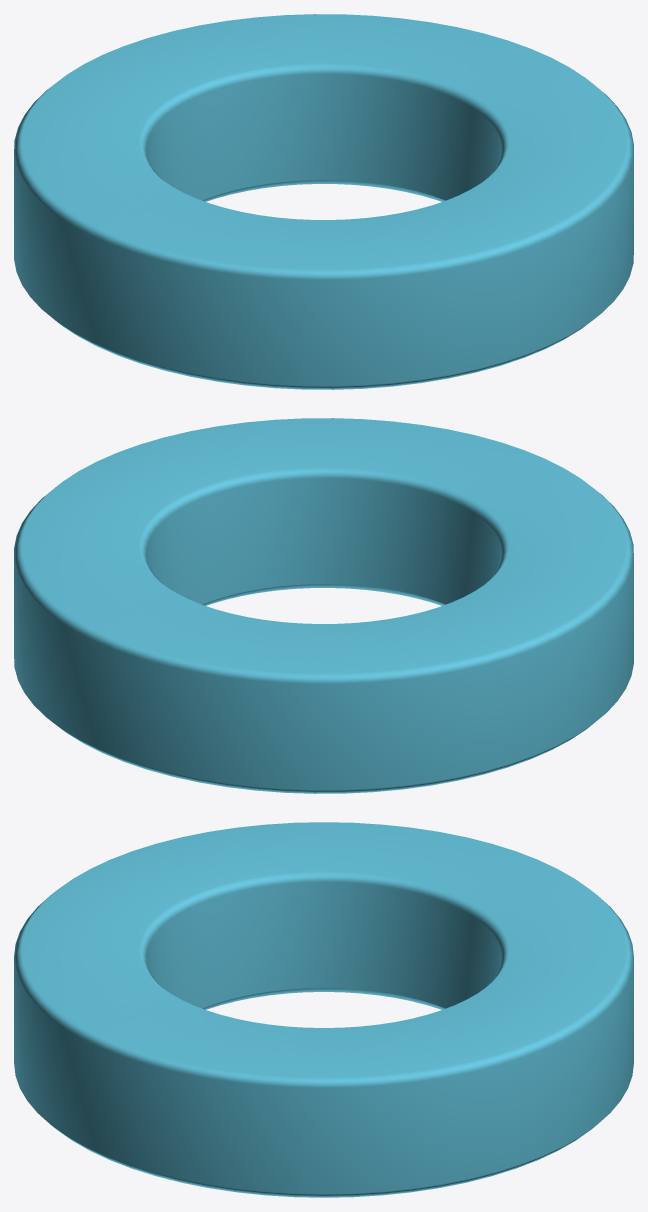
3 renders of one model, top to bottom at view 1: azimuth 30°, elevation 25°; view 2: azimuth 150°, elevation 25°; view 3: azimuth 270°, elevation 25°, orthographic.
Visible parts, largest first — view 1: seal_body; view 2: seal_body; view 3: seal_body.
Boxes of the visible parts, x1,y1,x2,y2 form: seal_body: (14,14,633,389); seal_body: (14,418,633,793); seal_body: (14,822,633,1197).
Bounding box in the file's own units: 0.0444 × 0.00952 × 0.0444.
